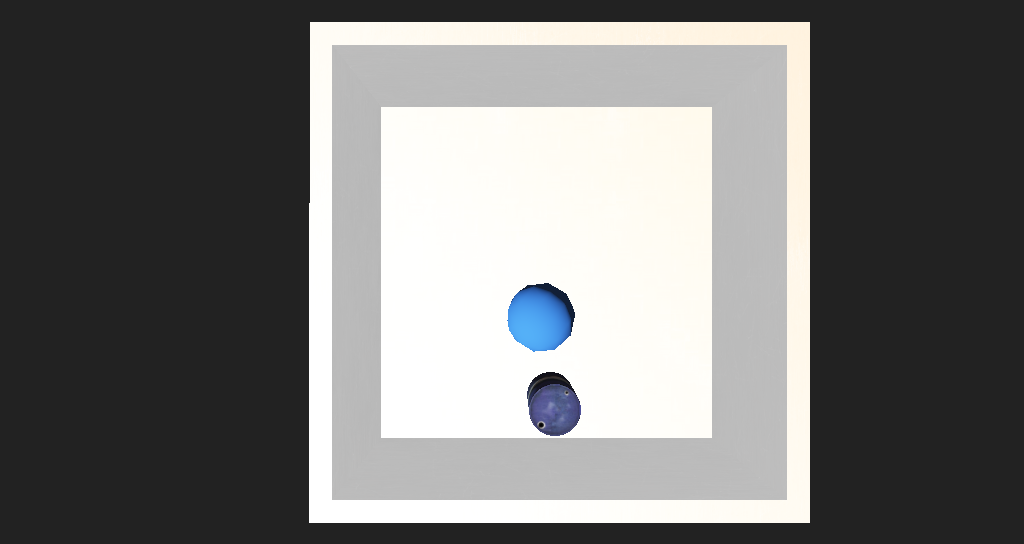cone: (488, 332, 536, 375)
sphere: (465, 272, 532, 320)
